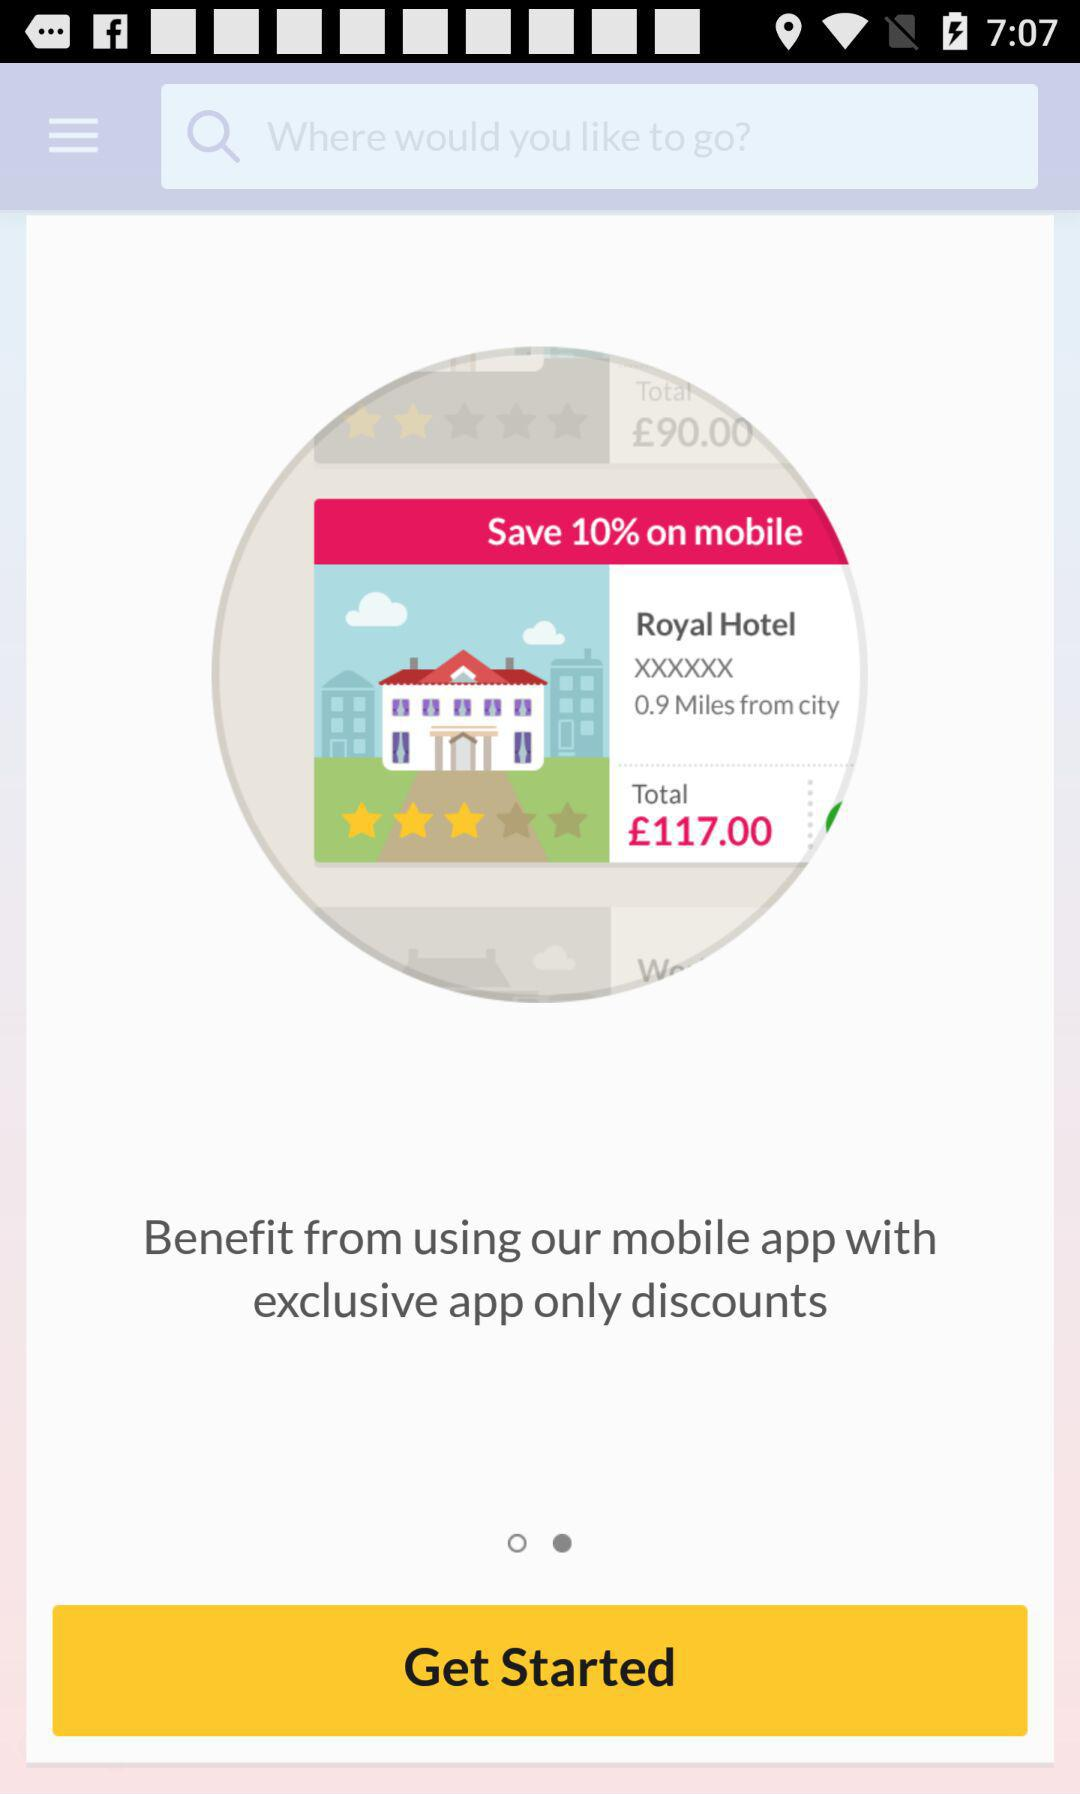Image: (211, 345, 870, 1005)
PageIndicator: (506, 1533, 575, 1554)
Text: (145, 1216, 940, 1328)
TextButton: (53, 1604, 1029, 1738)
UpperTaskBar: (1, 1, 1080, 64)
